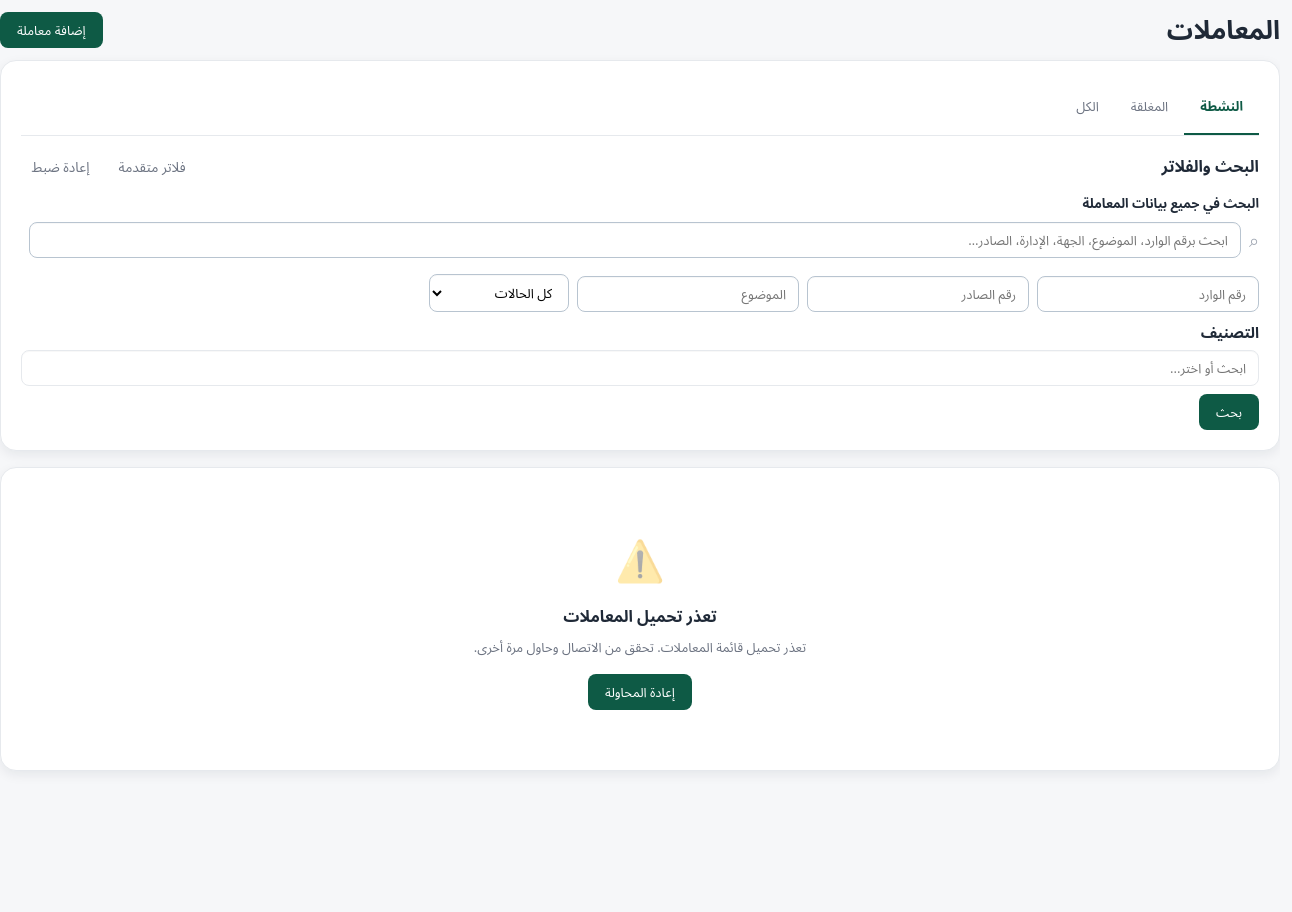
Test: TransactionsList › retries loading after search failure
The width and height of the screenshot is (1292, 912).
Click the button "إعادة المحاولة" at [640, 692], box 588,674 -> 692,710
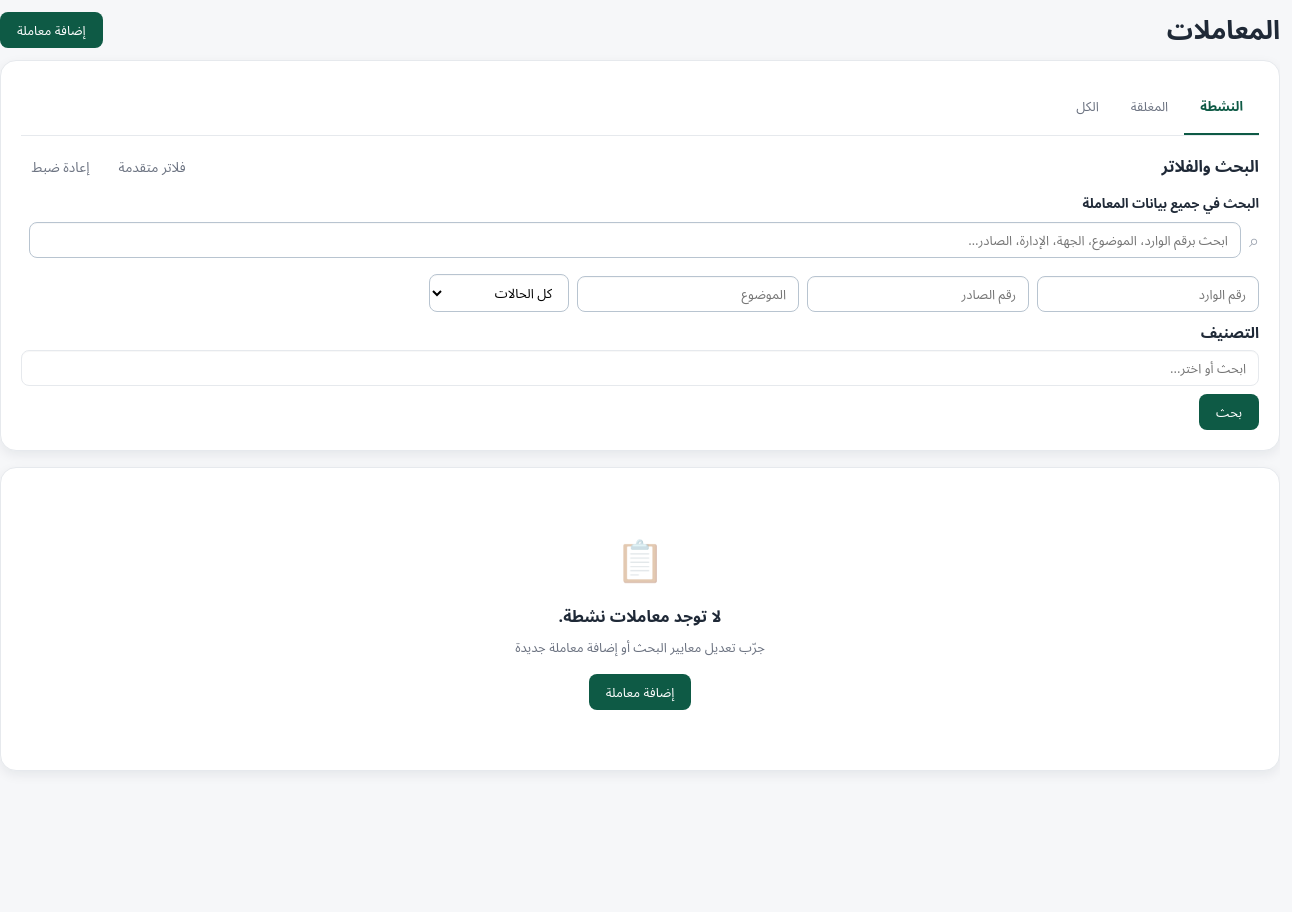
Expected: the text "لا توجد معاملات نشطة." is shown, 559,605 -> 721,627
